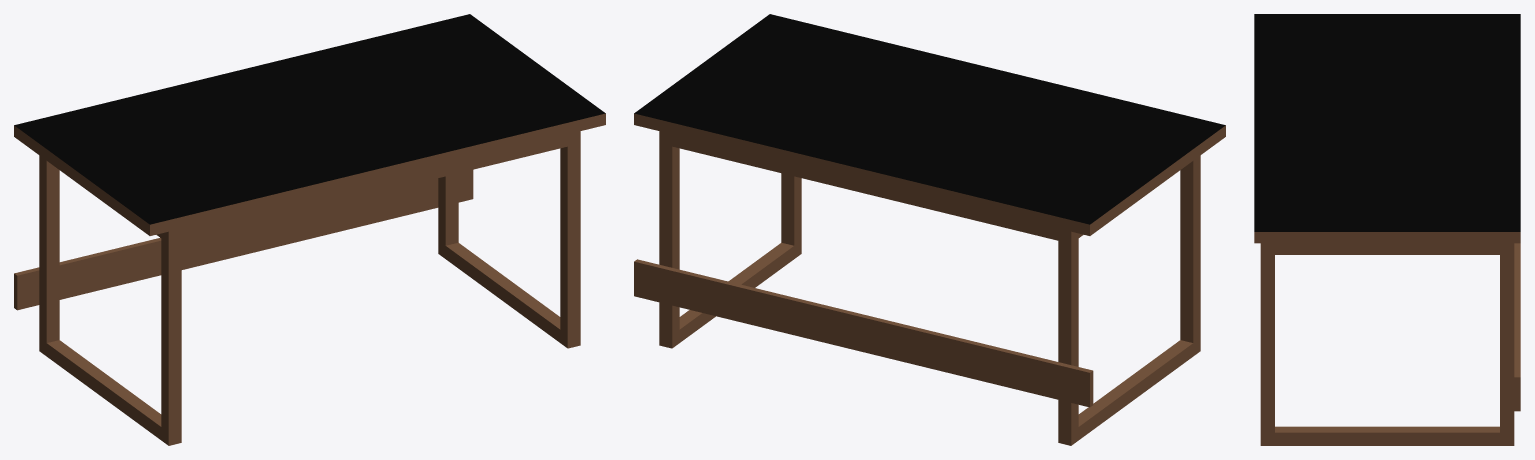
The model's file is sally_computer_table.glb.
3 renders of one model, left to right at view 1: azimuth 30°, elevation 25°; view 2: azimuth 150°, elevation 25°; view 3: azimuth 270°, elevation 25°, orthographic. The views are drawn at different scales.
Visible parts, largest first — view 1: sally_computer_table; view 2: sally_computer_table; view 3: sally_computer_table.
Part boxes in pixels (<box>): sally_computer_table: <box>14,14,605,445</box>; sally_computer_table: <box>634,14,1225,445</box>; sally_computer_table: <box>1254,14,1520,445</box>.
Size of the model in its own units: 62 by 29.75 by 32.
